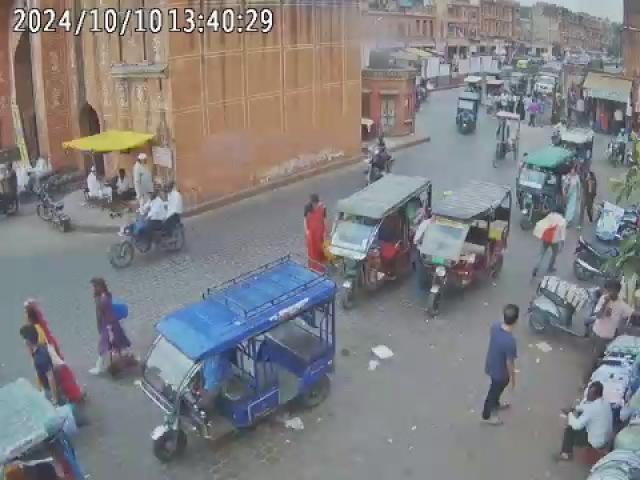auto: (144, 258, 346, 480), (321, 176, 433, 307), (414, 180, 512, 317), (518, 144, 578, 230), (454, 94, 479, 136)
motorbike-rider: (107, 184, 186, 264)
person: (20, 302, 90, 422), (559, 378, 616, 466), (481, 305, 522, 418), (90, 278, 135, 378), (534, 206, 568, 275), (130, 152, 153, 196), (114, 168, 136, 204), (84, 167, 104, 205)
